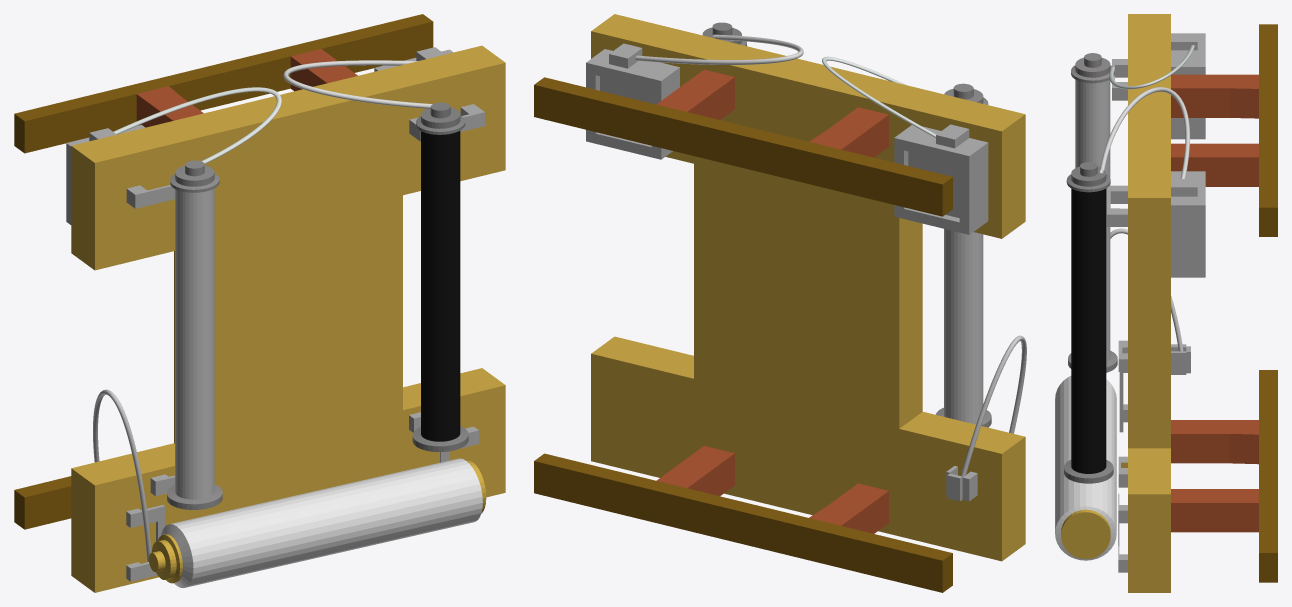
Rendered from NeutronSpectrometer.gltf.
3 renders of one model, left to right at view 1: azimuth 30°, elevation 25°; view 2: azimuth 150°, elevation 25°; view 3: azimuth 270°, elevation 25°, orthographic. The views are drawn at different scales.
Parts seen in each view (by area): view 1: Cube.001, Cube.004, Cube.002, Cube.003, BezierCurve, BezierCurve.002, BezierCurve.001; view 2: Cube.001, Cube.003, BezierCurve, BezierCurve.002, BezierCurve.001; view 3: Cube.001, Cube.002, Cube.004, Cube.003, BezierCurve, BezierCurve.001, BezierCurve.002.
Boxes of the visible parts, <box> form: Cube.001: <box>14,14,505,592</box>; Cube.004: <box>149,458,486,587</box>; Cube.002: <box>412,102,468,451</box>; Cube.003: <box>167,160,222,509</box>; BezierCurve: <box>283,60,432,108</box>; BezierCurve.002: <box>93,389,151,561</box>; BezierCurve.001: <box>113,87,281,163</box>; Cube.001: <box>534,14,1025,592</box>; Cube.003: <box>935,83,991,427</box>; BezierCurve: <box>635,34,803,64</box>; BezierCurve.002: <box>960,335,1026,476</box>; BezierCurve.001: <box>822,56,936,137</box>; Cube.001: <box>1107,14,1277,592</box>; Cube.002: <box>1064,162,1113,483</box>; Cube.004: <box>1055,376,1116,560</box>; Cube.003: <box>1068,53,1117,372</box>; BezierCurve: <box>1099,87,1189,178</box>; BezierCurve.001: <box>1109,45,1194,89</box>; BezierCurve.002: <box>1110,228,1183,351</box>.
Size of the model in its own units: 3.86 by 4.07 by 1.98.
